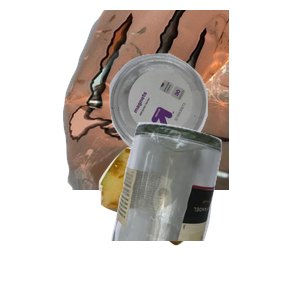glass: (109, 120, 300, 300)
metal: (60, 10, 300, 190)
plastic: (107, 51, 300, 199)
trash: (96, 145, 295, 300)
